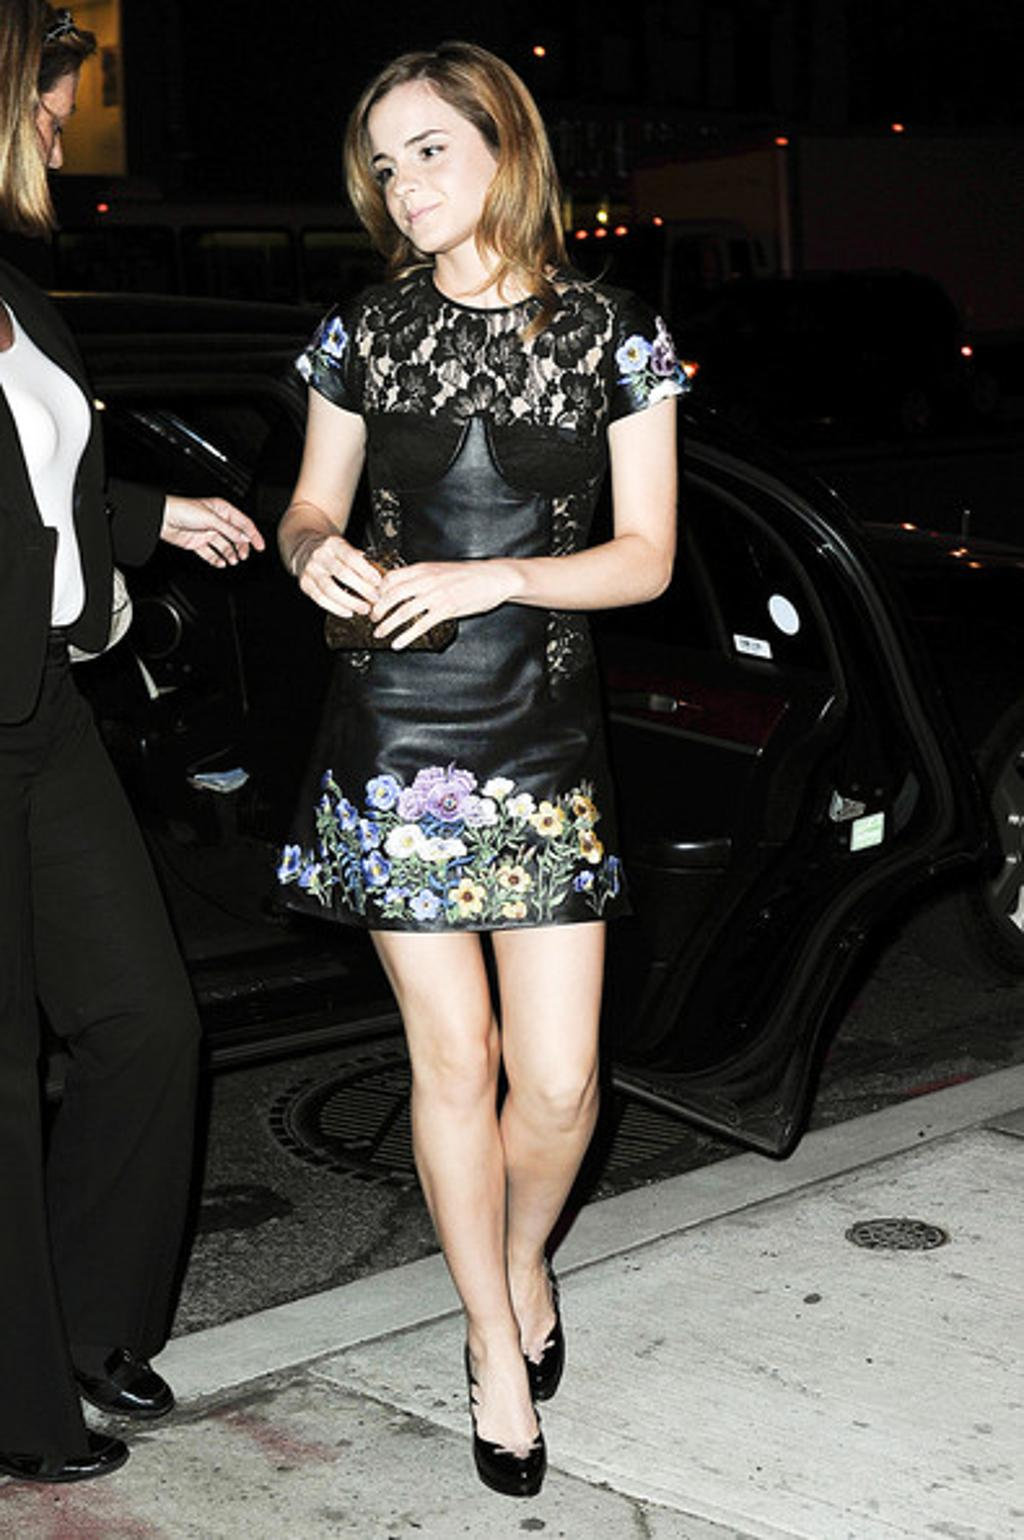face: (367, 81, 490, 256), (1, 65, 70, 215)
